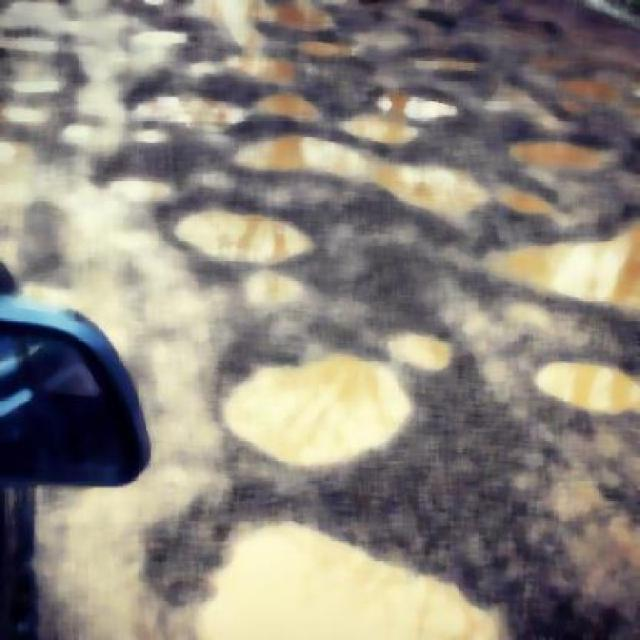pothole: (128, 503, 541, 639), (231, 120, 494, 231), (216, 340, 405, 473), (492, 183, 640, 332), (485, 358, 640, 467), (166, 196, 312, 285), (72, 155, 194, 220), (344, 88, 477, 141), (512, 127, 618, 170)
